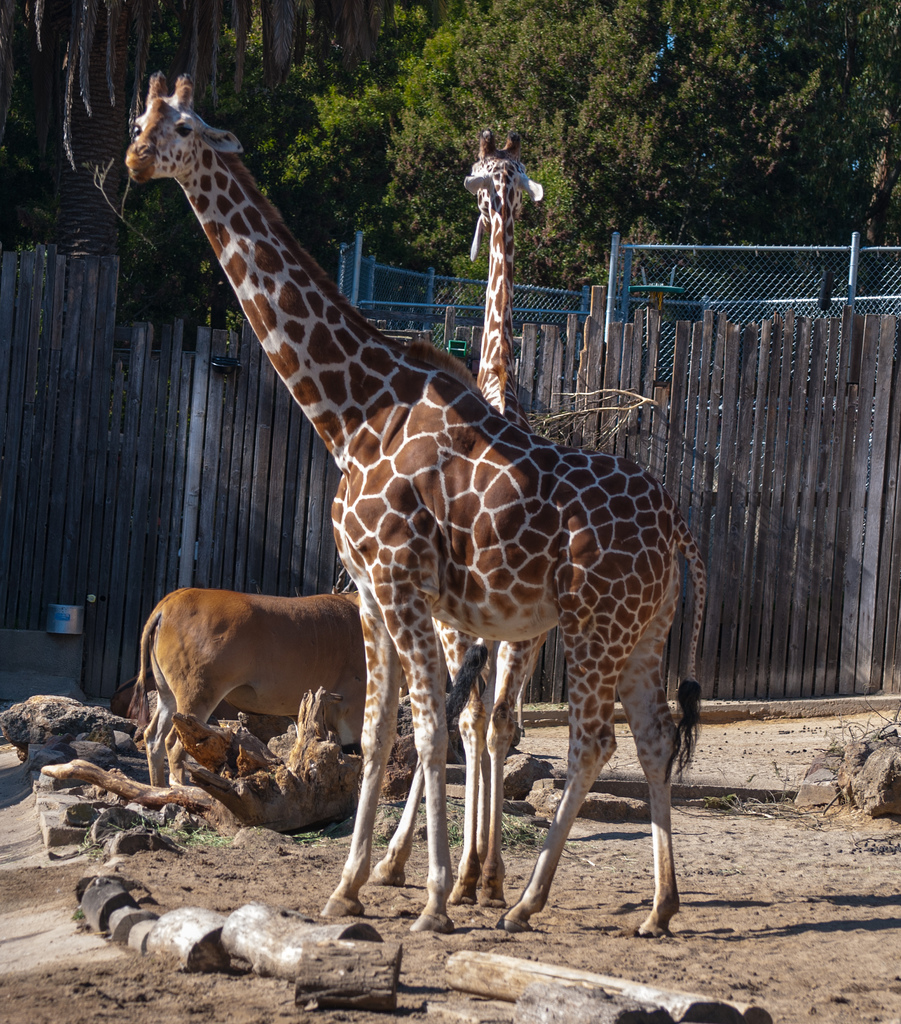giraffe: (98, 60, 711, 940), (439, 116, 620, 479)
